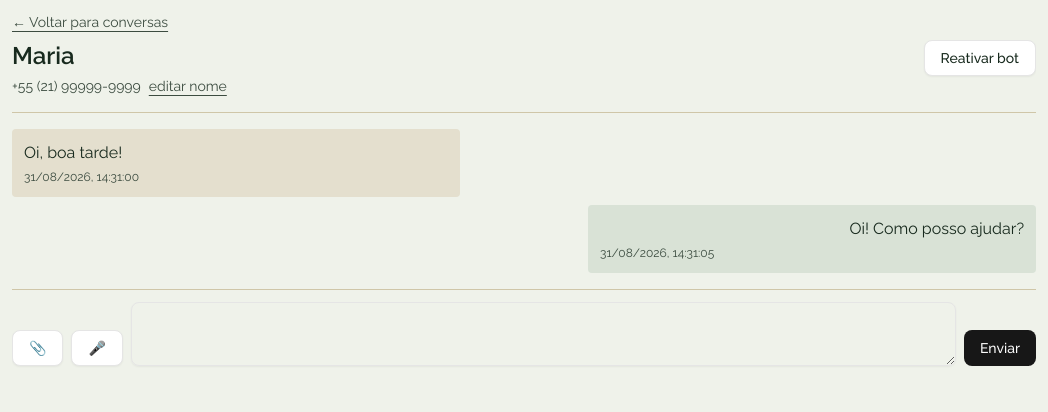
ConversaDetailPage › shows an inline error when sending a reply fails
In the text box named "Responder": (543, 334) [131,302,956,366], type "Oi"
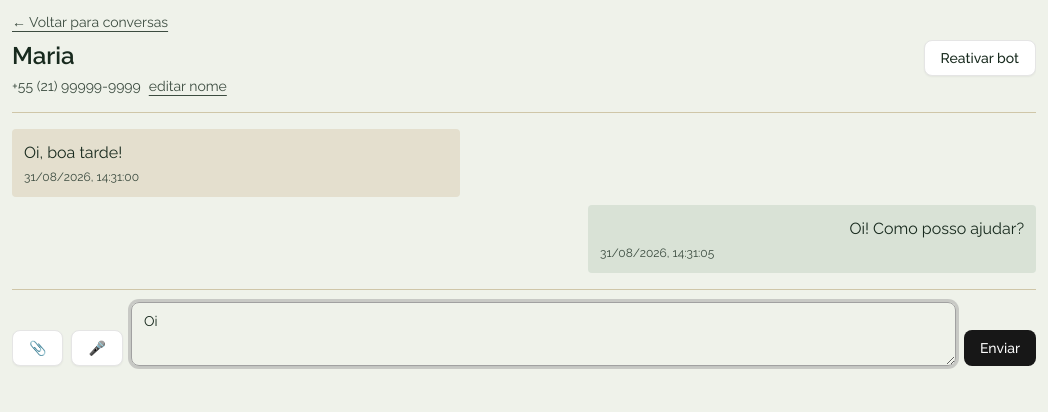
Click the button "Enviar": (1000, 348) [964,330,1036,366]
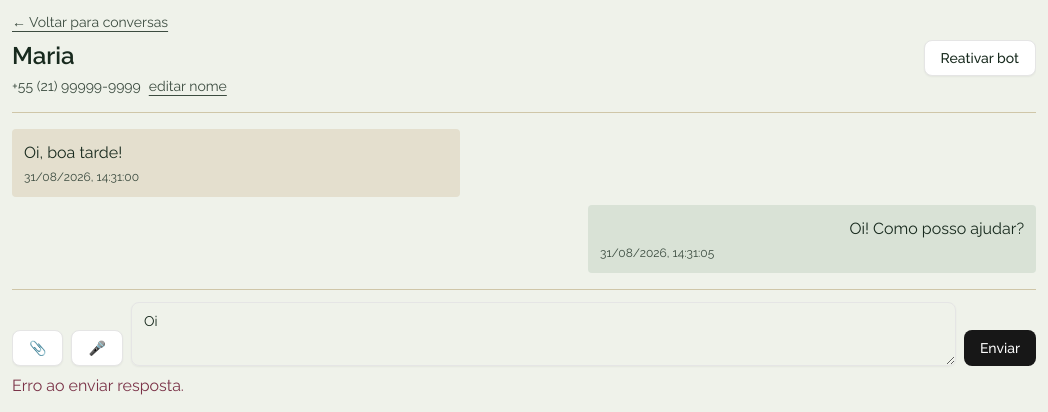
Now the message reads "Erro ao enviar resposta.", box [12,376,184,395]
